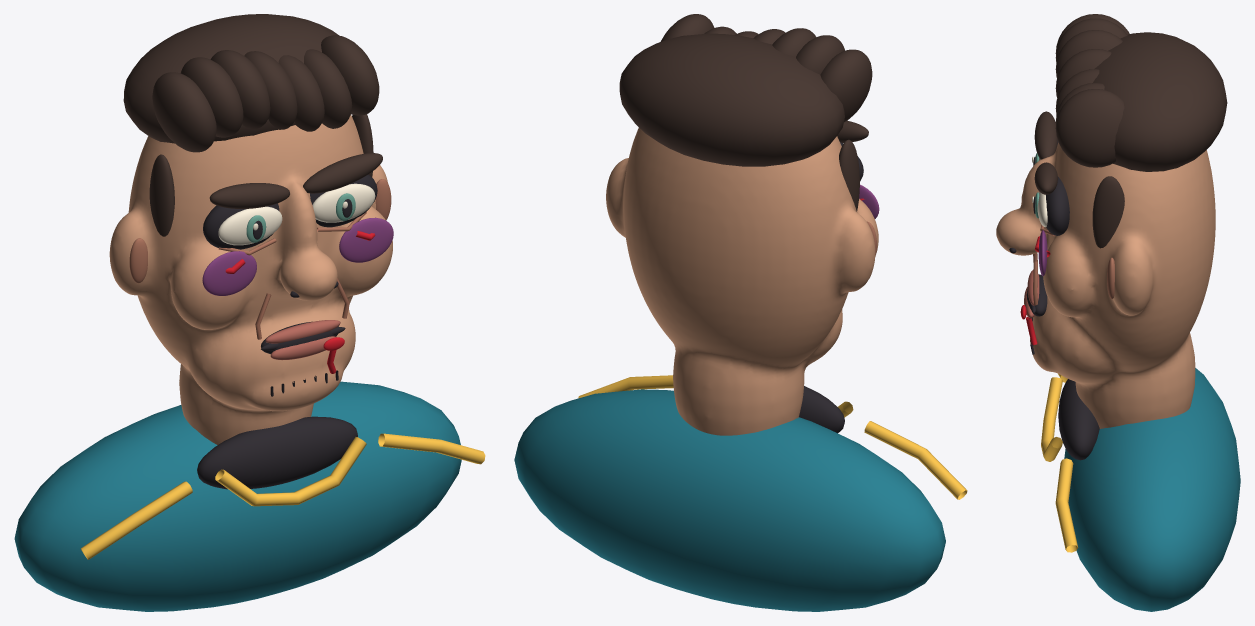
The model's file is fighter.glb.
3 views of the same model, side by side, from view 1: azimuth 30°, elevation 25°; view 2: azimuth 150°, elevation 25°; view 3: azimuth 270°, elevation 25° (orthographic). The views are drawn at different scales.
Visible parts, largest first — view 1: Shirt, Face, Hair, Collar, HairLock00, HairLock01, HairLock06, CollarTrim, HairLock02, HairLock05, HairLock03, HairLock04 (+13 smaller); view 2: Shirt, Face, Hair, HairLock00, ShoulderPiping-1, Collar, HairLock01, ShoulderPiping1, Sideburn-1, HairLock06, HairLock02; view 3: Face, Shirt, Hair, HairLock06, Collar, Sideburn1, ShoulderPiping1, CollarTrim, HairLock02, EyeSocketR, HairLock03, BrowL (+6 smaller).
Boxes of the visible parts, <box> form: Shirt: <box>14,381,461,611</box>; Face: <box>109,114,392,444</box>; Hair: <box>123,14,338,143</box>; Collar: <box>197,416,357,489</box>; HairLock00: <box>152,72,216,152</box>; HairLock01: <box>180,57,243,137</box>; HairLock06: <box>321,35,379,115</box>; CollarTrim: <box>215,436,366,506</box>; HairLock02: <box>210,50,270,129</box>; HairLock05: <box>304,49,352,128</box>; HairLock03: <box>244,51,297,129</box>; HairLock04: <box>278,55,324,131</box>; Shirt: <box>514,389,945,611</box>; Face: <box>606,127,878,435</box>; Hair: <box>619,33,844,166</box>; HairLock00: <box>820,49,872,122</box>; ShoulderPiping-1: <box>864,421,967,499</box>; Collar: <box>799,386,844,433</box>; HairLock01: <box>796,35,844,74</box>; ShoulderPiping1: <box>578,375,673,398</box>; Sideburn-1: <box>839,139,859,211</box>; HairLock06: <box>660,14,714,41</box>; HairLock02: <box>772,28,815,56</box>; Face: <box>996,142,1215,428</box>; Shirt: <box>1064,368,1240,611</box>; Hair: <box>1093,32,1227,171</box>; HairLock06: <box>1055,89,1124,167</box>; Collar: <box>1058,379,1099,460</box>; Sideburn1: <box>1092,176,1124,248</box>; ShoulderPiping1: <box>1055,458,1078,552</box>; CollarTrim: <box>1041,377,1062,461</box>; HairLock02: <box>1055,30,1122,78</box>; EyeSocketR: <box>1046,176,1069,235</box>; HairLock03: <box>1055,49,1111,97</box>; BrowL: <box>1034,111,1057,159</box>.
Size of the model in its own units: 1.86 by 2.31 by 0.9848.
